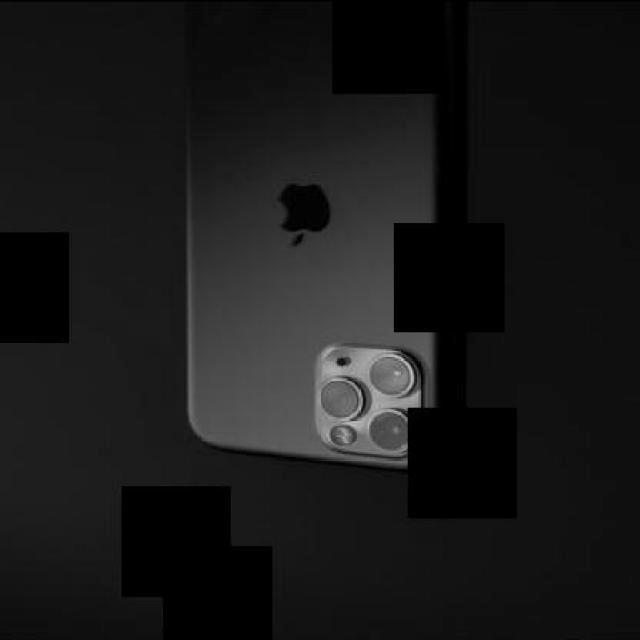fake: (184, 2, 450, 480)
